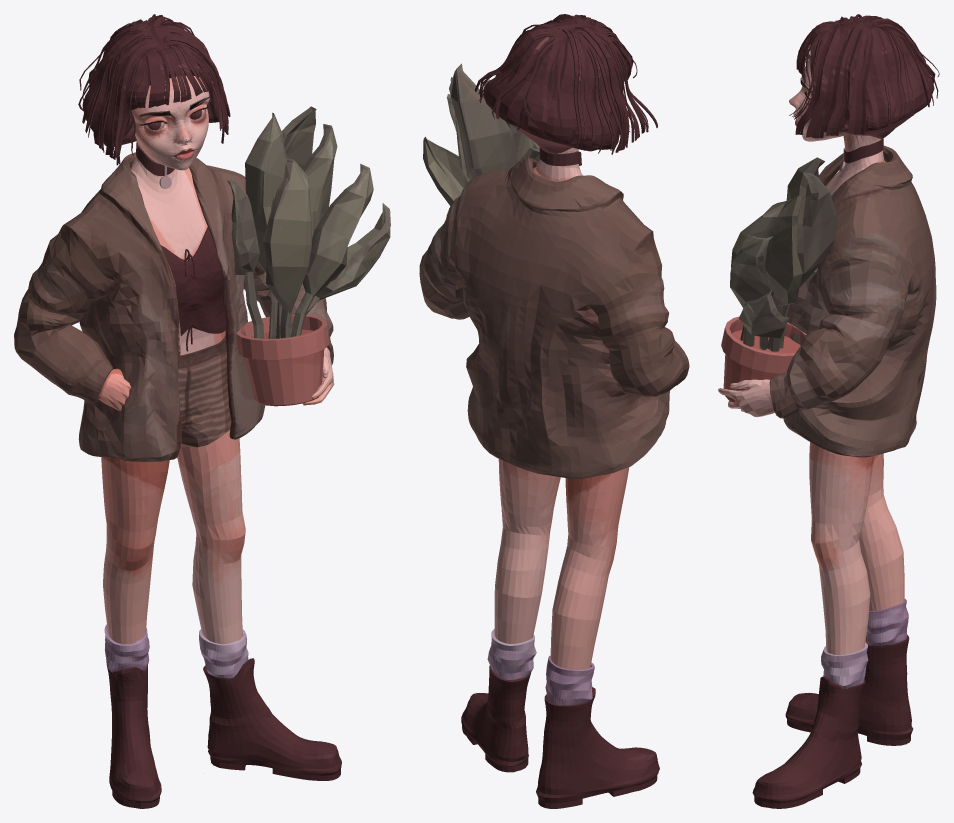
File: woman.gltf
The picture shows the model from 3 angles, left to right: view 1: azimuth 30°, elevation 25°; view 2: azimuth 150°, elevation 25°; view 3: azimuth 270°, elevation 25°; orthographic projection. The views are drawn at different scales.
Bounding box in the file's own units: 82.65 × 191 × 52.97.
5 materials, 4 textured.
